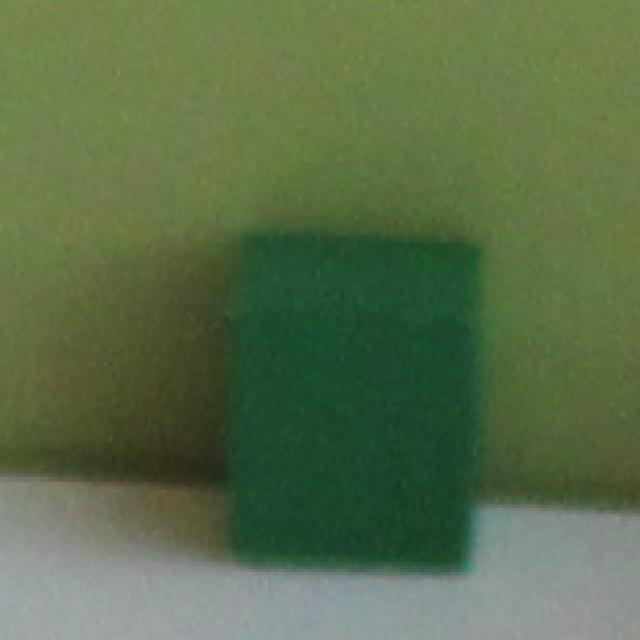green cube: (234, 225, 479, 579)
